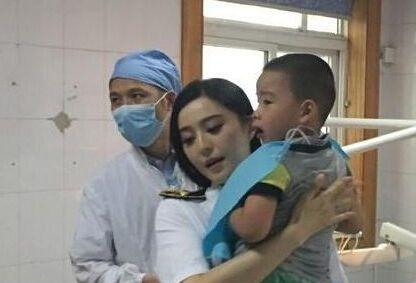NONE: (178, 114, 240, 180), (251, 91, 301, 146)
OK: (112, 88, 169, 145)
